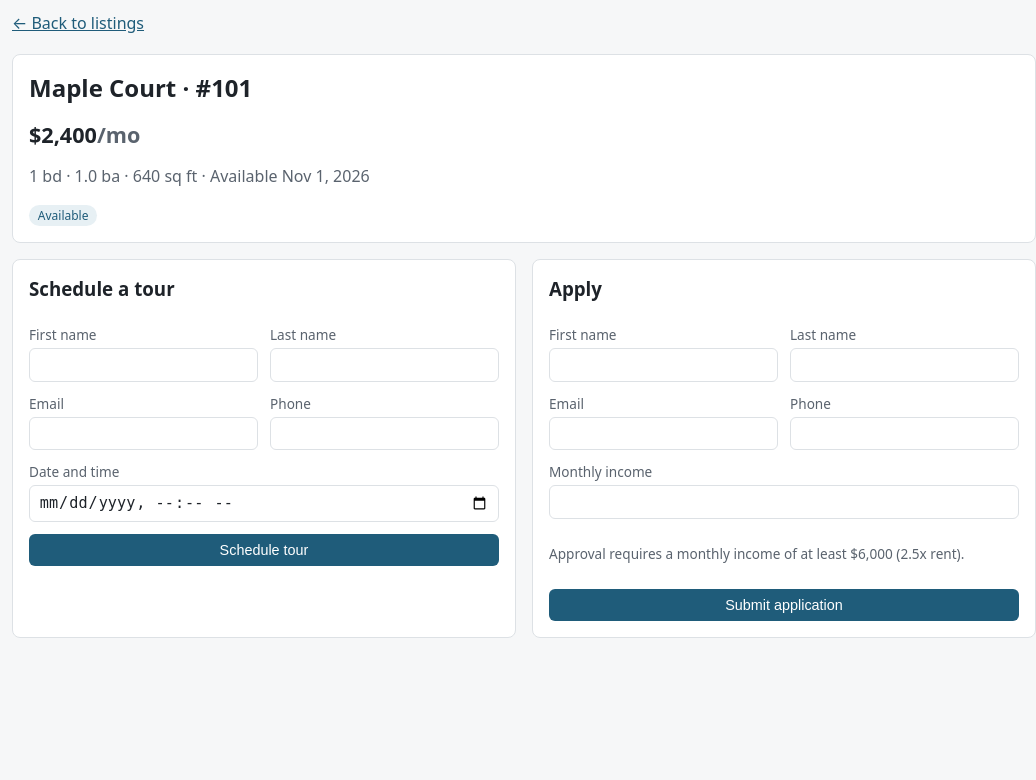
Test: UnitDetailPage › submits an application for a new prospect
This screenshot has width=1036, height=780.
Step 1. Type "Pat" into the field labelled "First name" below "Apply" → (664,365), box [549,348,778,382]
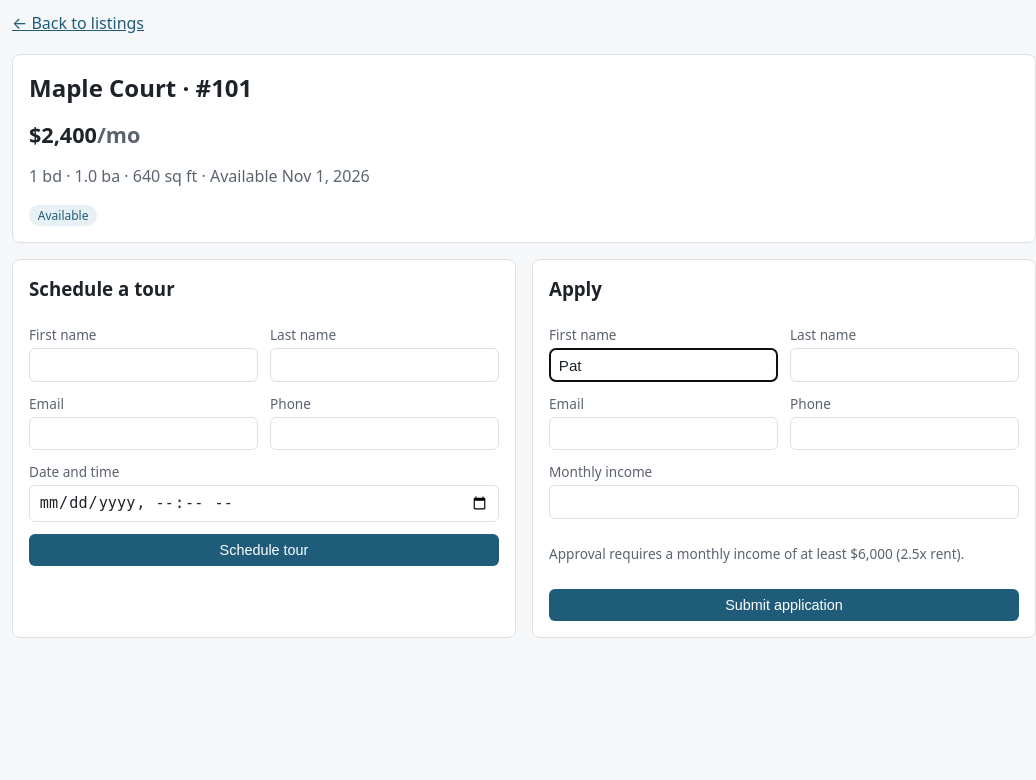
Step 2. Type "Lee" into the field labelled "Last name" below "Apply" → (904,365), box [790,348,1019,382]
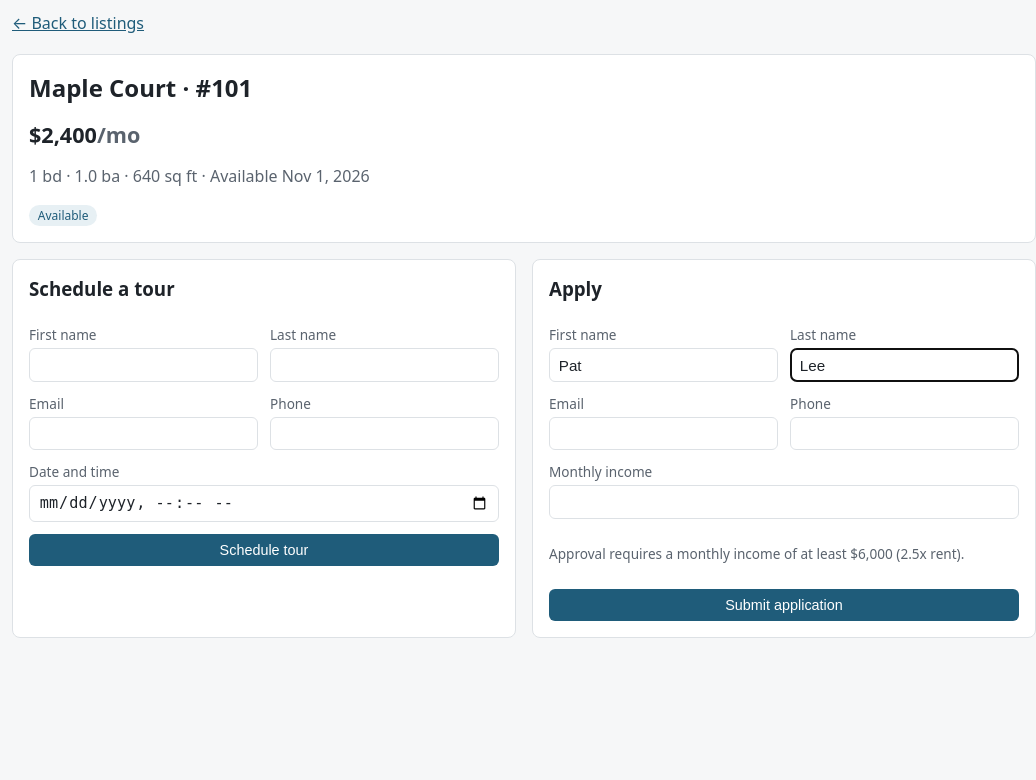
Step 3. Type "pat@example.com" into the field labelled "Email" below "Apply" → (664,434), box [549,417,778,450]
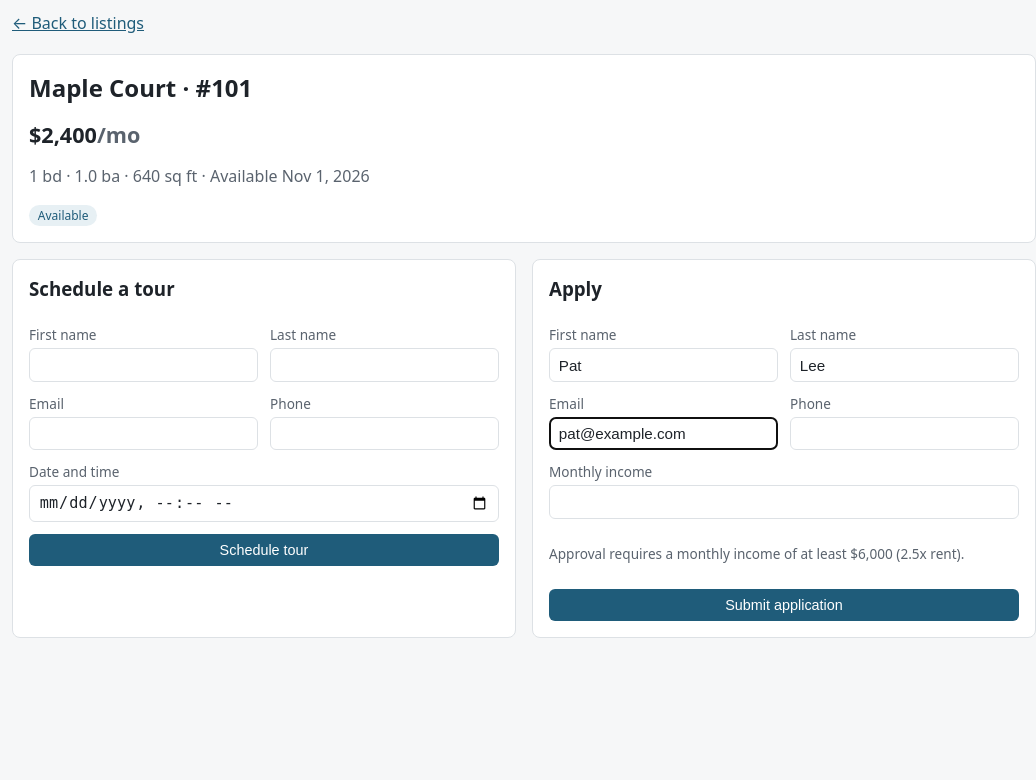
Step 4. Type "7000" into the number field labelled "Monthly income" → (784,502), box [549,485,1019,518]
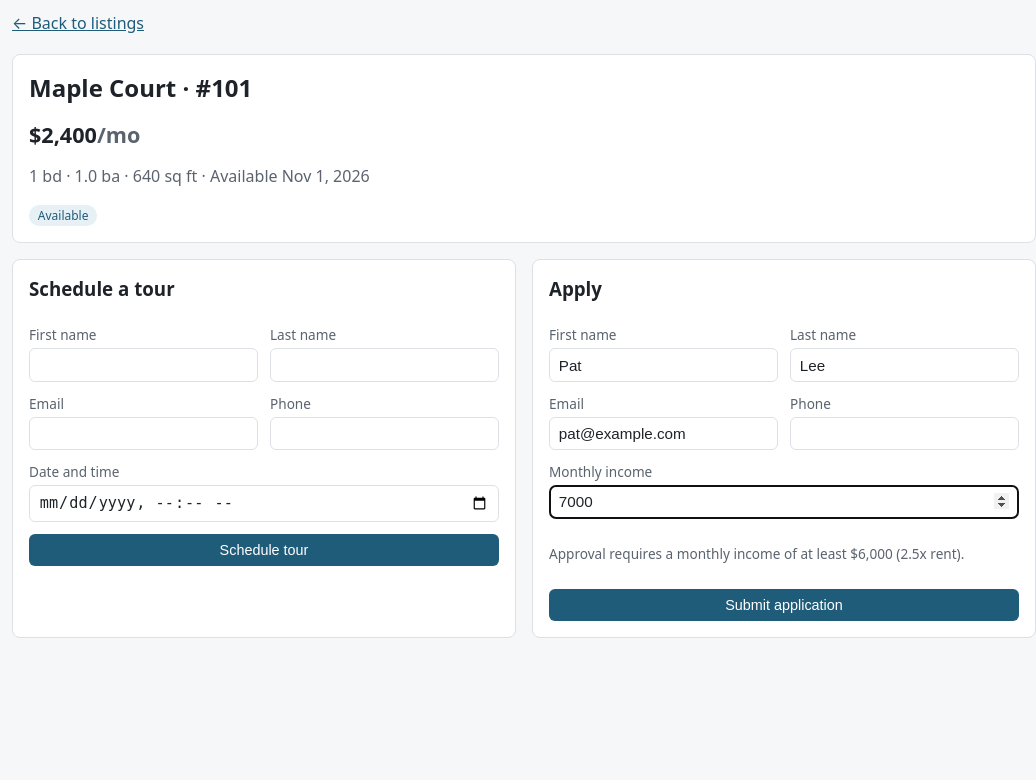
Step 5. Click the button "Submit application" → (784,605), box [549,589,1019,621]
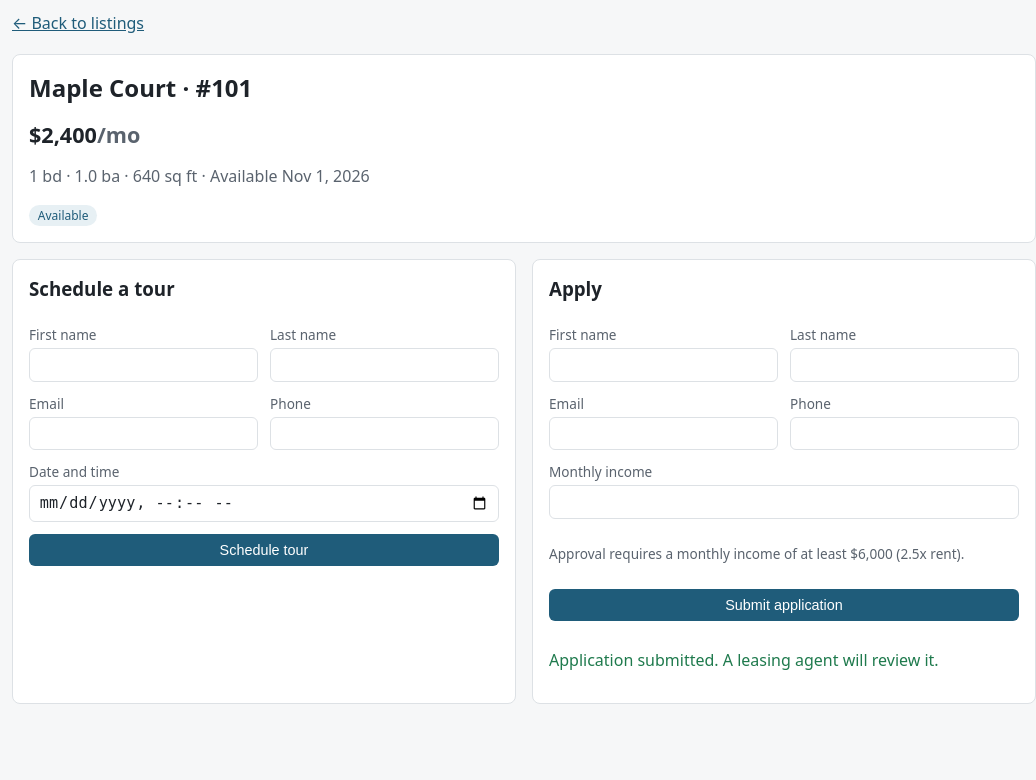
Now the message shows "Application submitted", box [549,649,939,671]
